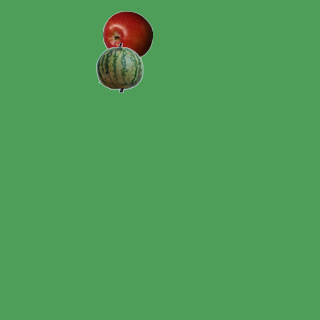Apple Braeburn: (102, 10, 152, 60)
Watermelon: (94, 42, 144, 92)
